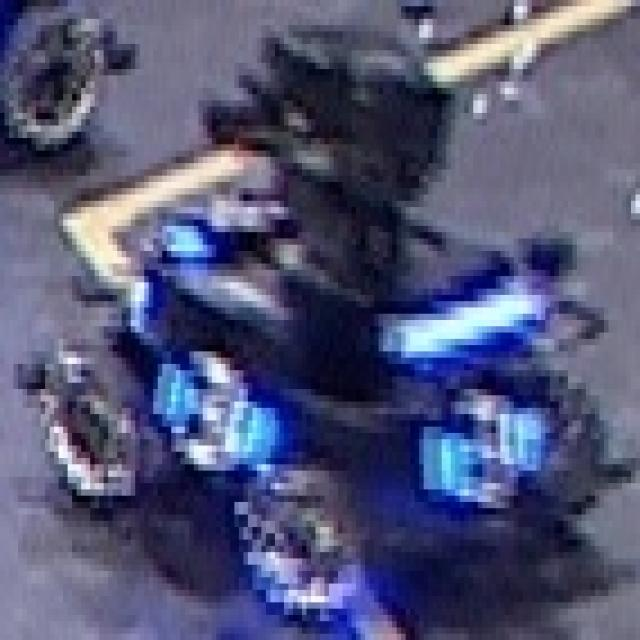B3: (410, 383, 554, 527), (153, 345, 275, 496)
